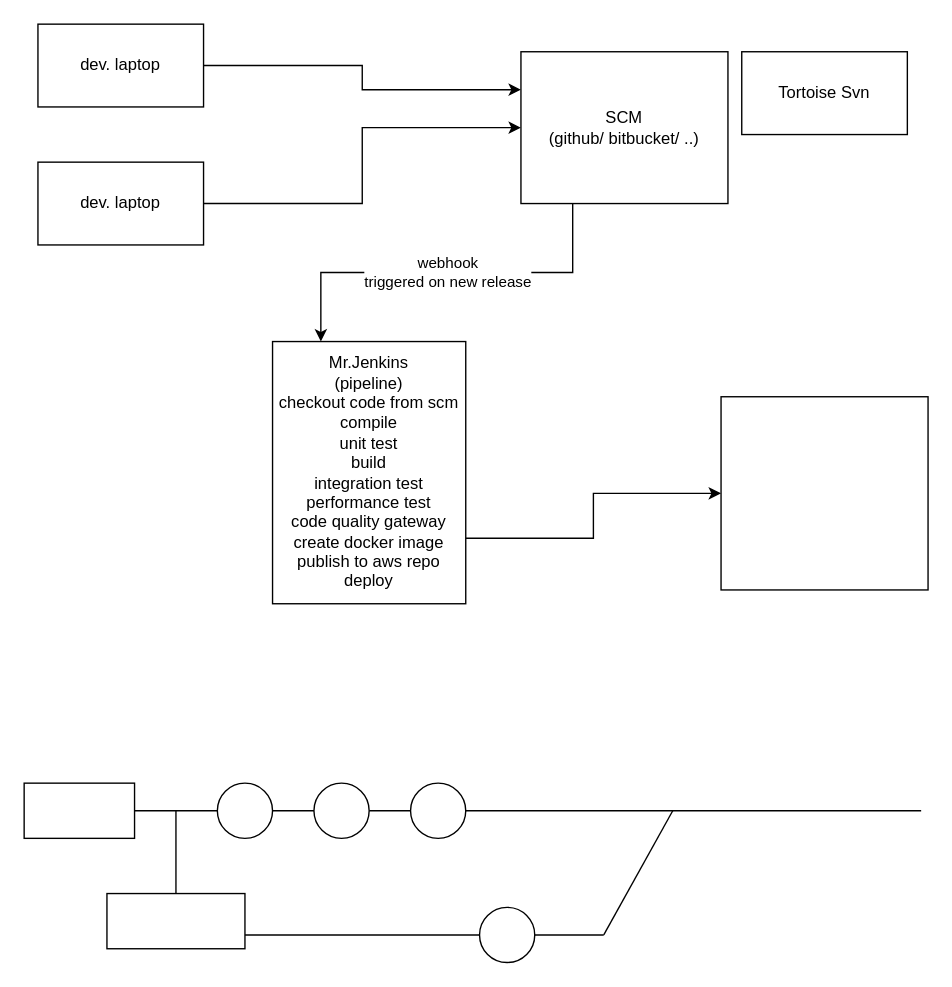
This 952x987 diagram has some shape labels left out. The box of each missing label's shape, as (x1, y1, x2, y2) in pixels:
feature/sidebar: (106, 892, 245, 949)
master: (23, 782, 135, 838)
SERVER AWS: (720, 395, 928, 590)
